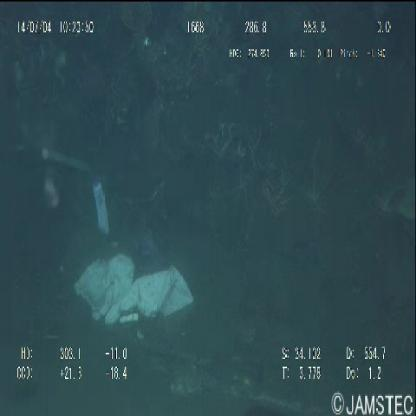Rác: (74, 256, 196, 327)
